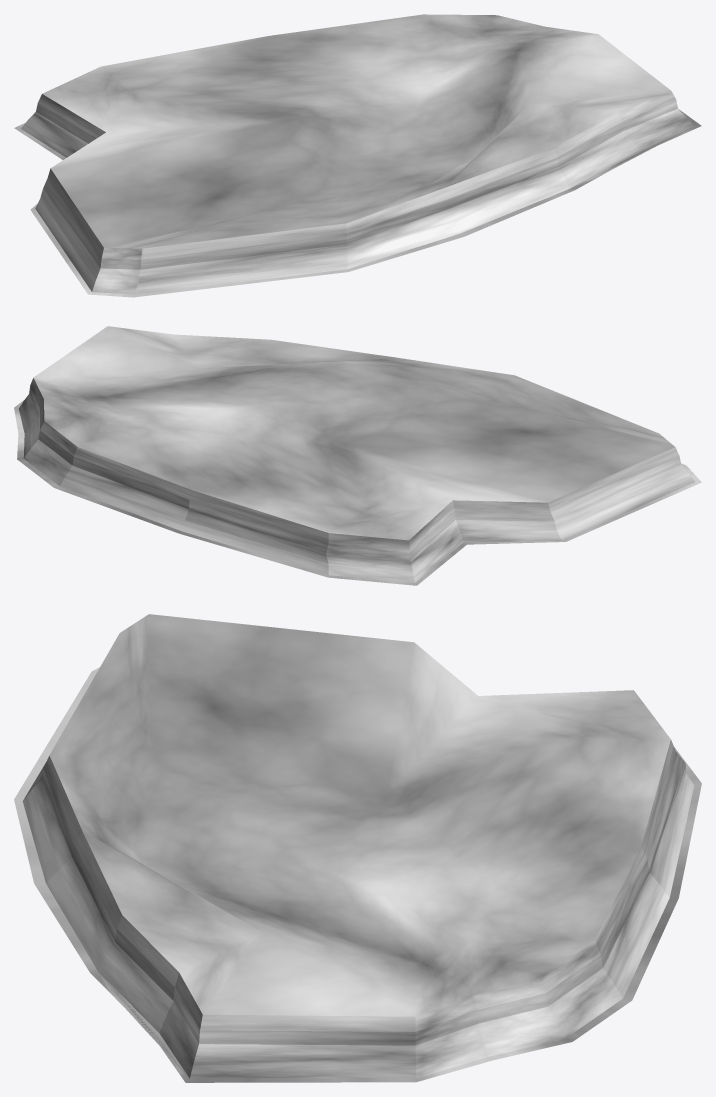
Rendered from Small_StepStone3.obj.
3 views of the same model, one above another, from view 1: azimuth 30°, elevation 25°; view 2: azimuth 150°, elevation 25°; view 3: azimuth 270°, elevation 25° (orthographic). The views are drawn at different scales.
Visible parts, largest first — view 1: Cube_Cube.001; view 2: Cube_Cube.001; view 3: Cube_Cube.001.
Boxes of the visible parts, x1,y1,x2,y2 form: Cube_Cube.001: [14, 14, 701, 297]; Cube_Cube.001: [14, 326, 701, 585]; Cube_Cube.001: [14, 614, 701, 1082].
Bounding box in the file's own units: 7.53 × 0.4184 × 5.06.
